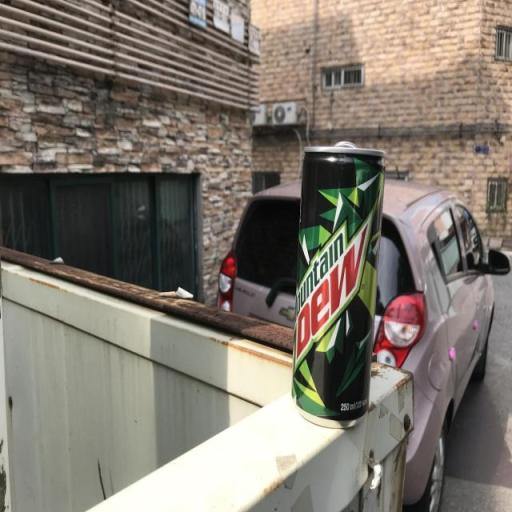metal: (281, 136, 399, 454)
